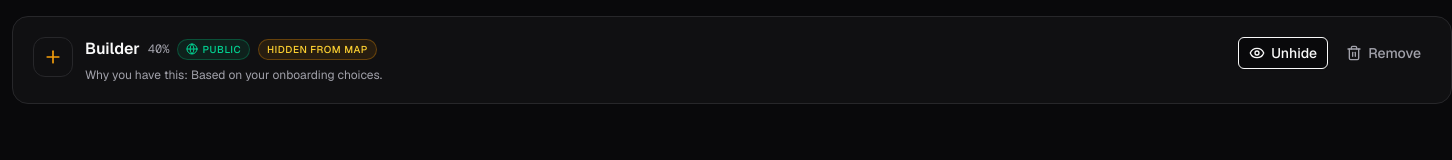
it: MyParallelsManager › displays honest error message when an action fails
The width and height of the screenshot is (1452, 160).
Click the button "Unhide" at (1283, 53), box [1238,37,1328,69]
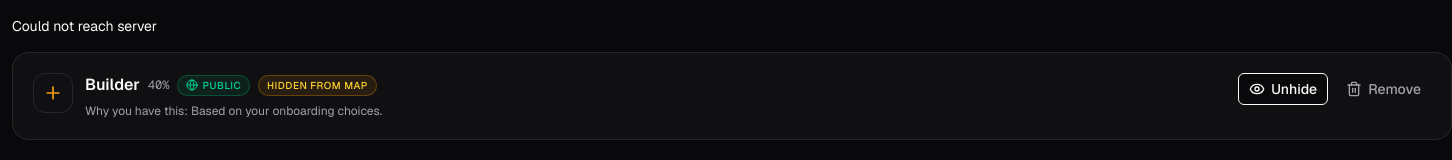
Now the message reads "Could not reach server", box [12,17,157,35]
